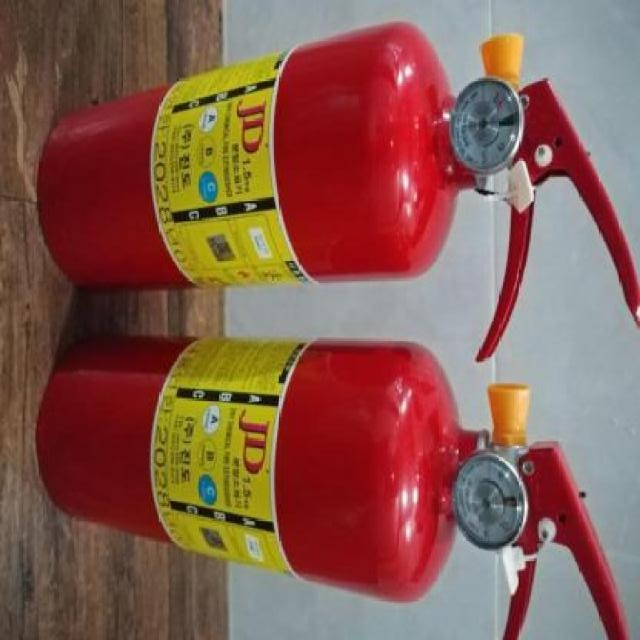fire extinguisher: (38, 22, 640, 363), (37, 332, 632, 640)
